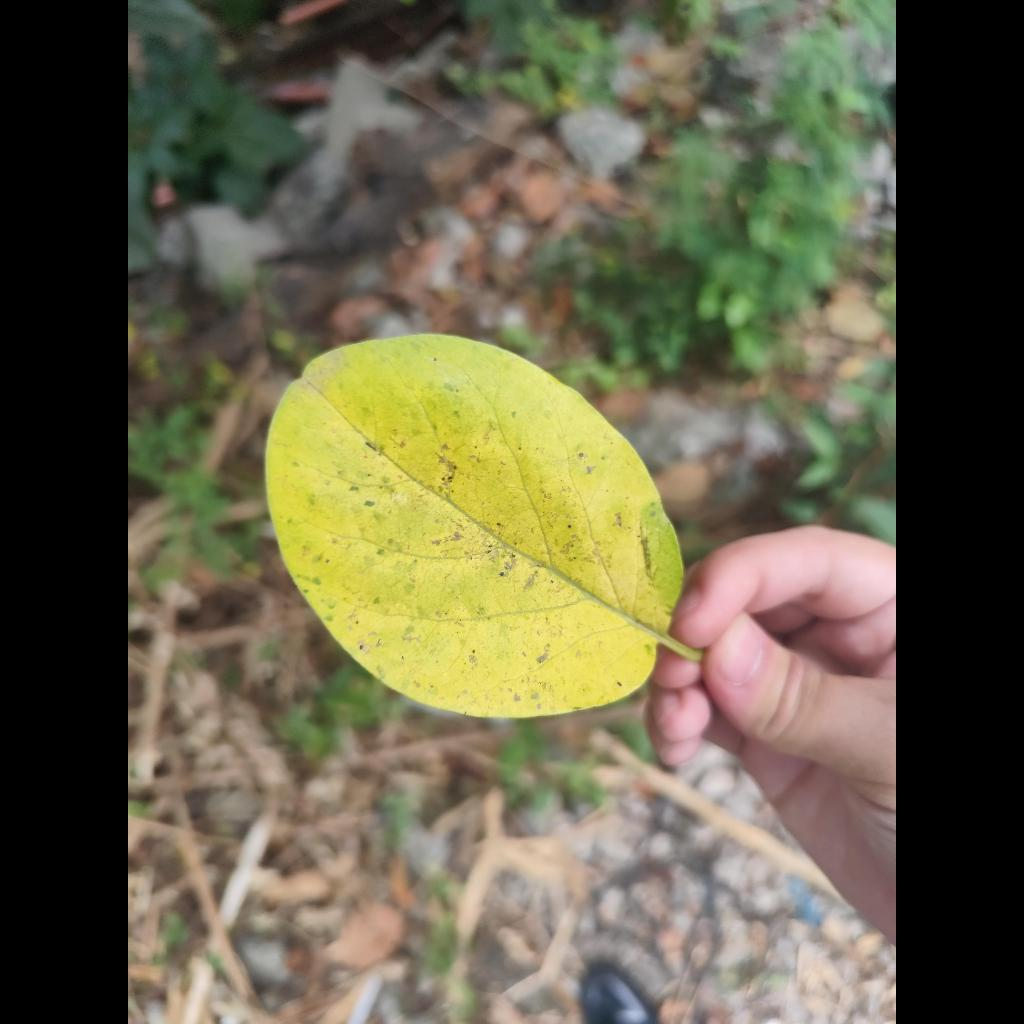deficiencia_nutricional: (266, 335, 683, 717)
